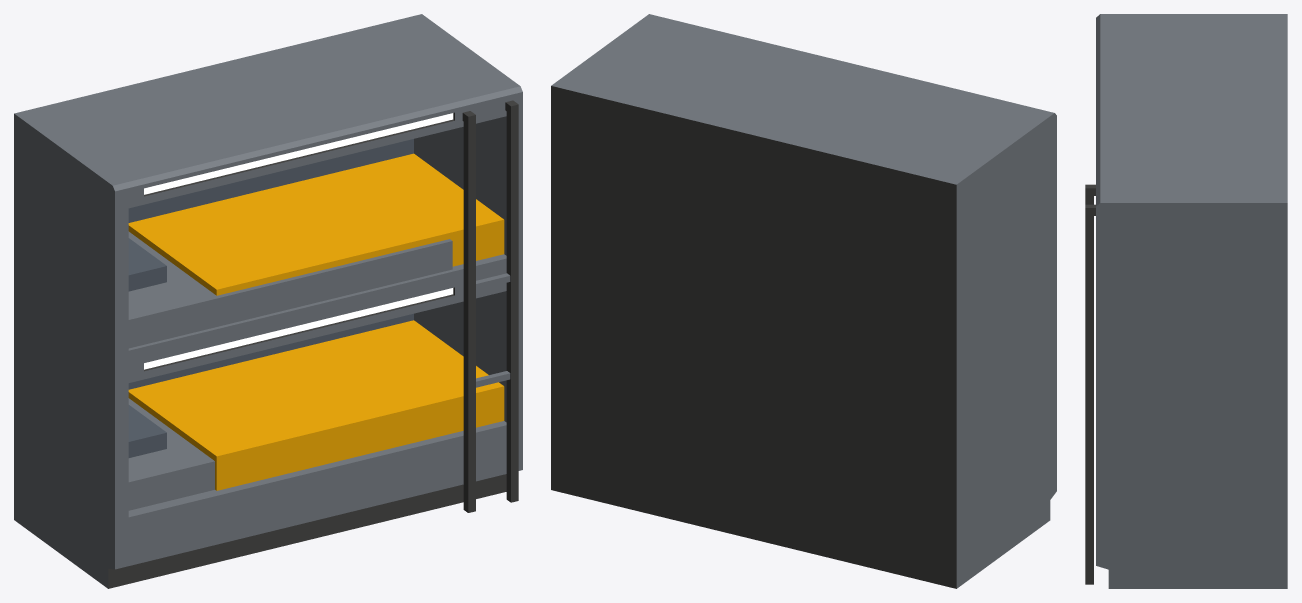
The model's file is bunk.glb.
3 renders of one model, left to right at view 1: azimuth 30°, elevation 25°; view 2: azimuth 150°, elevation 25°; view 3: azimuth 270°, elevation 25°, orthographic. The views are drawn at different scales.
Parts seen in each view (by area): view 1: bunk; view 2: bunk; view 3: bunk.
Part boxes in pixels (bbox=[...]): bunk: bbox=[14, 14, 522, 588]; bunk: bbox=[551, 14, 1056, 588]; bunk: bbox=[1085, 14, 1287, 588].
Bounding box in the file's own units: 2.1 × 2 × 0.95.
